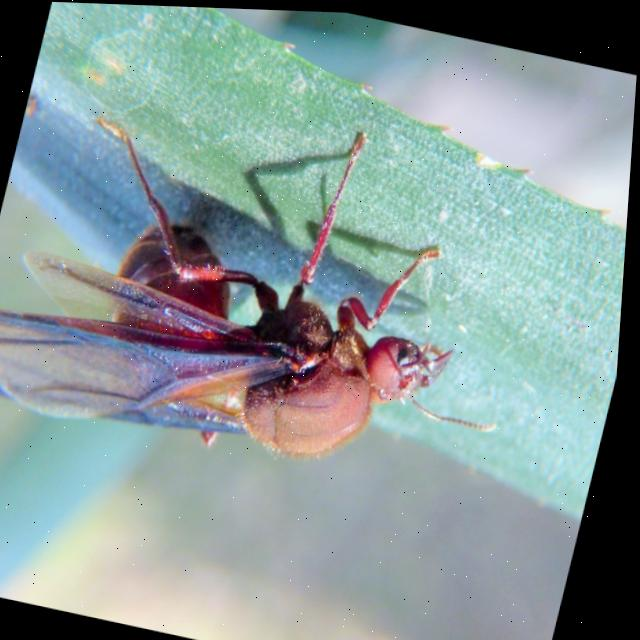Alive-Female-Alate: (0, 60, 567, 508)
